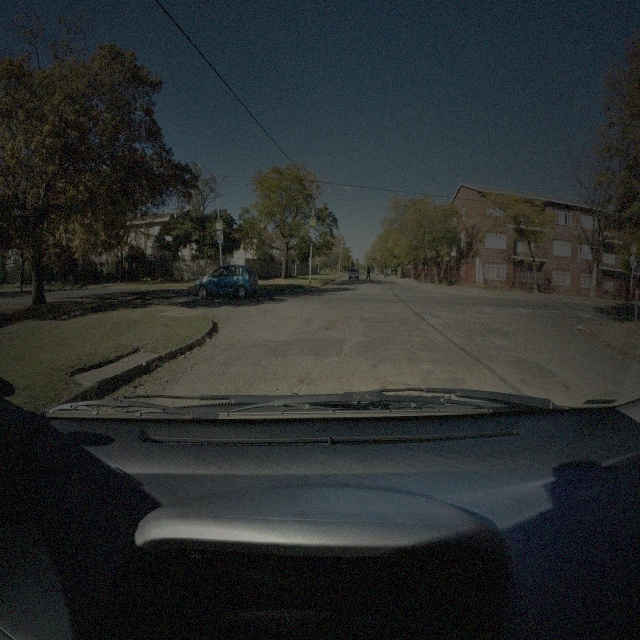pothole: (522, 372, 571, 397), (458, 316, 482, 328), (326, 326, 340, 334)
